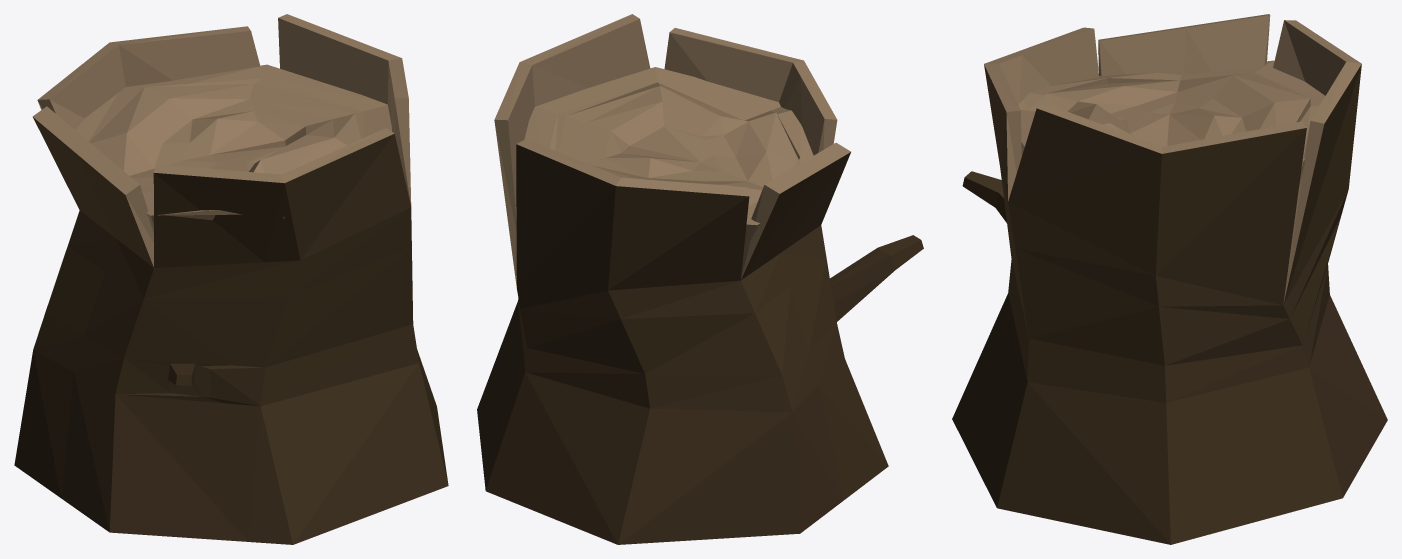
The model's file is LP_stump.fbx.
3 renders of one model, left to right at view 1: azimuth 30°, elevation 25°; view 2: azimuth 150°, elevation 25°; view 3: azimuth 270°, elevation 25°, orthographic. The views are drawn at different scales.
Visible parts, largest first — view 1: stump; view 2: stump; view 3: stump.
Part boxes in pixels (left/top/right/bottom): stump: left=14, top=14, right=448, bottom=544; stump: left=477, top=14, right=923, bottom=544; stump: left=952, top=14, right=1387, bottom=544.
Bounding box in the file's own units: 2.15 × 2.09 × 2.09.
